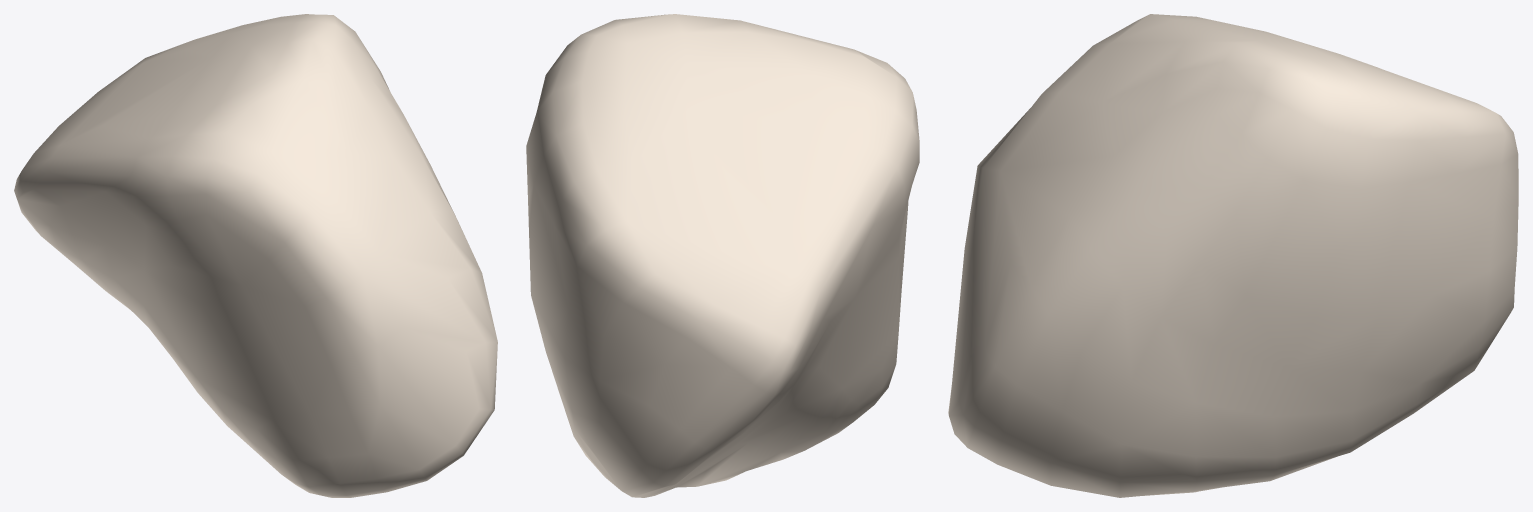
File: right_triquetrum.glb
The picture shows the model from 3 angles, left to right: view 1: azimuth 30°, elevation 25°; view 2: azimuth 150°, elevation 25°; view 3: azimuth 270°, elevation 25°; orthographic projection. The views are drawn at different scales.
Visible parts, largest first — view 1: Triquetrum.r; view 2: Triquetrum.r; view 3: Triquetrum.r.
Part boxes in pixels (x1,y1,x2,y2): Triquetrum.r: (14,14,497,497); Triquetrum.r: (526,14,919,497); Triquetrum.r: (948,14,1518,497).
Size of the model in its own units: 0.00842 by 0.0107 by 0.0121.
